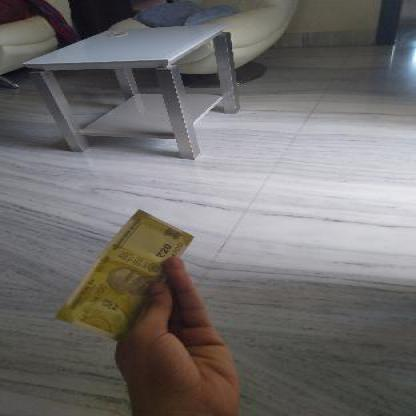New20Front: (53, 204, 188, 338)
